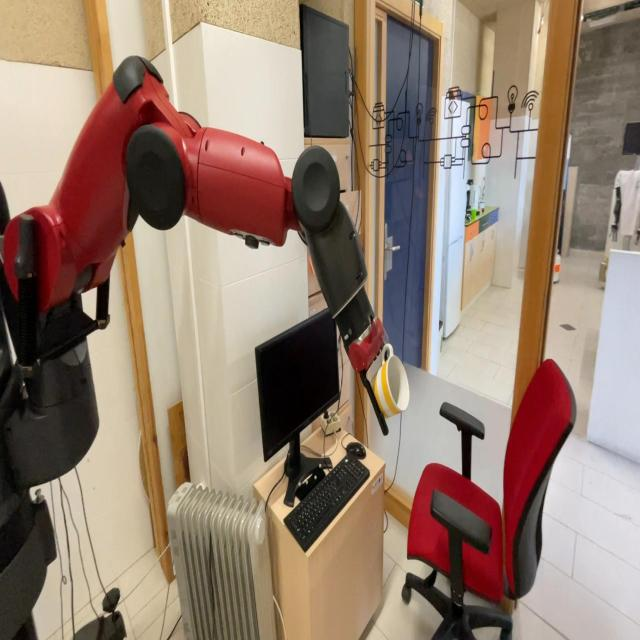cup: (370, 344, 411, 421)
